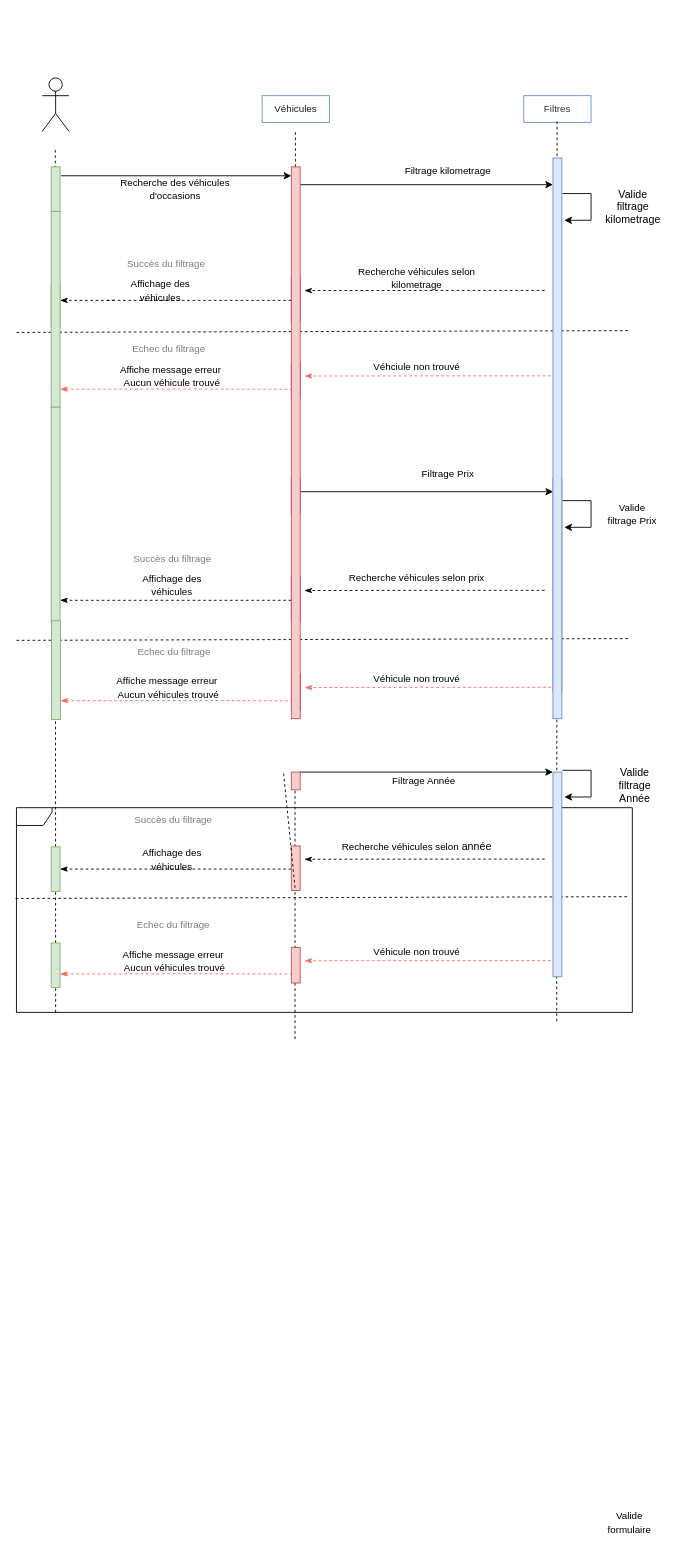
Some shapes in this 691 by 1550 pixel diagram are drawn without their labels. The box of each missing label's shape, as (x1, y1, x2, y2) in pixels:
alt: (16, 807, 632, 1012)
Visiteur: (41, 77, 69, 131)
